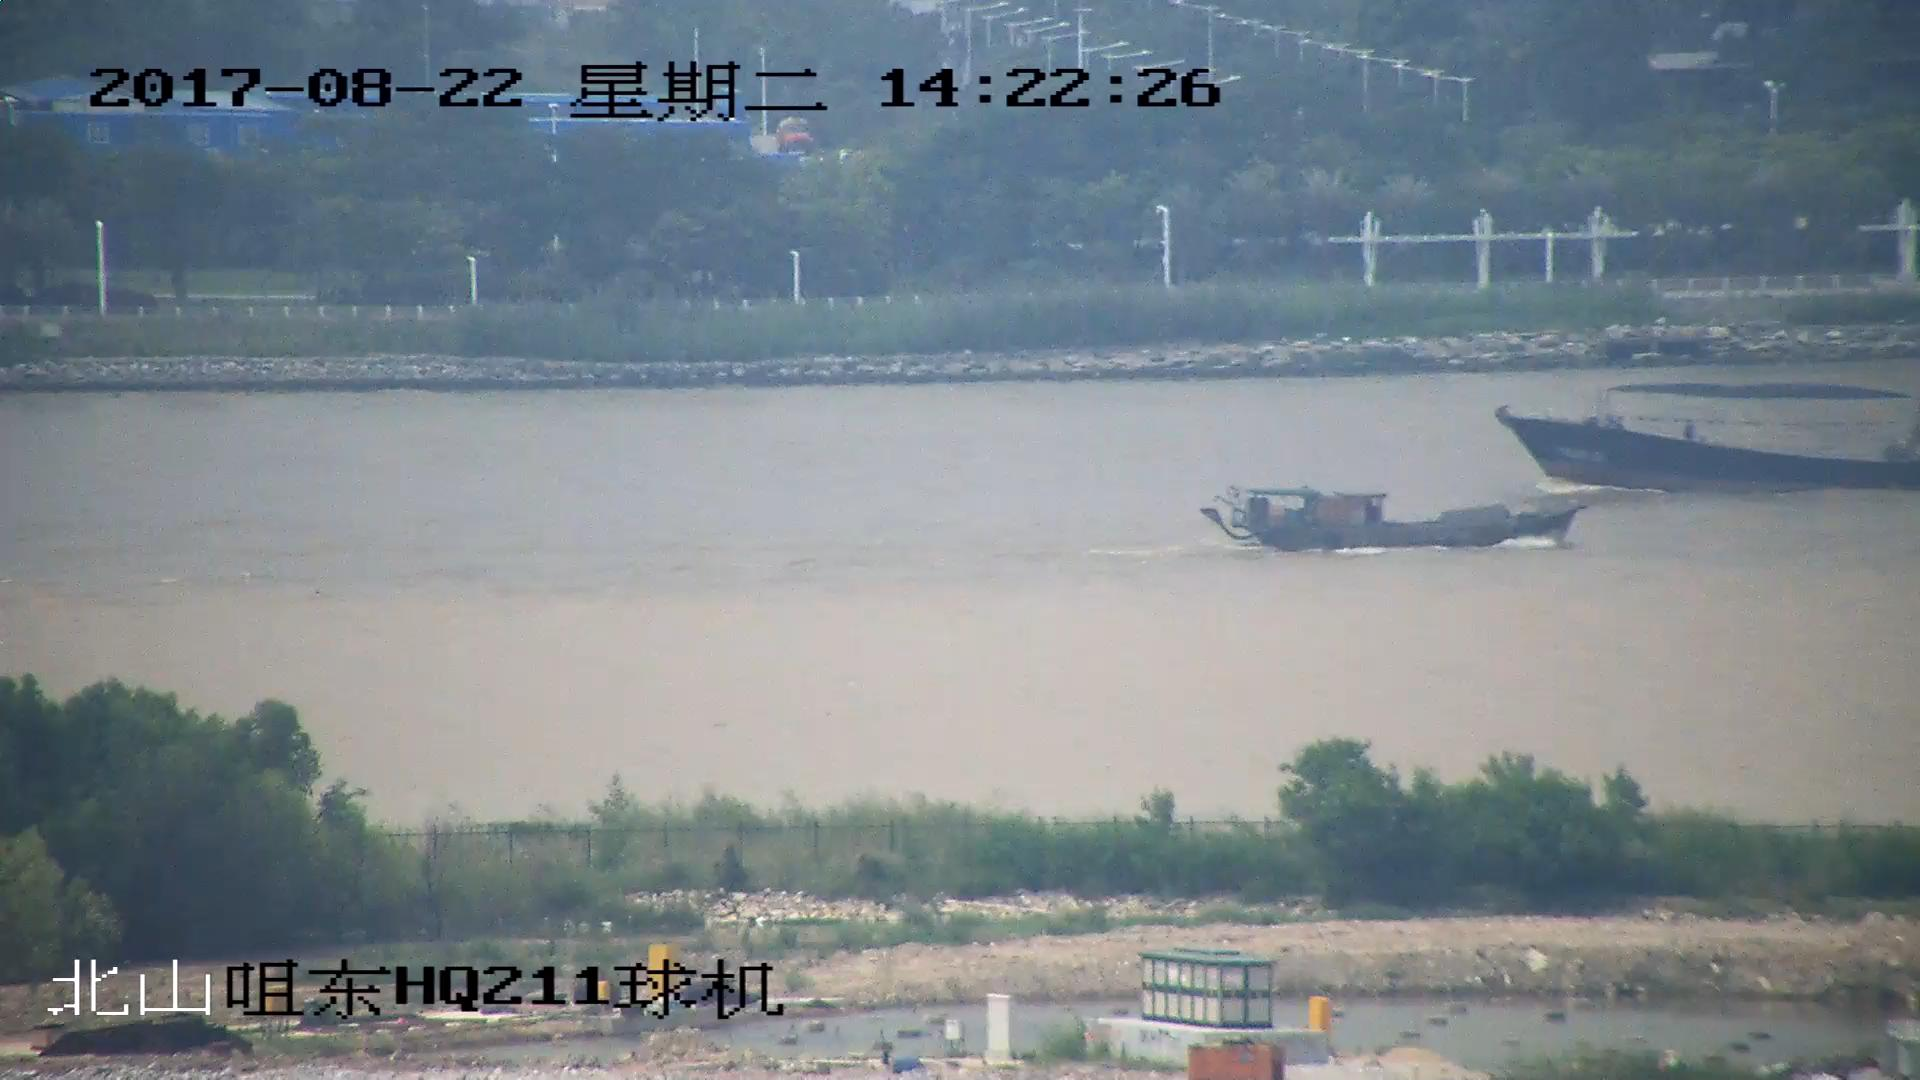fishing boat: (1501, 378, 1920, 498), (1204, 484, 1580, 556)
